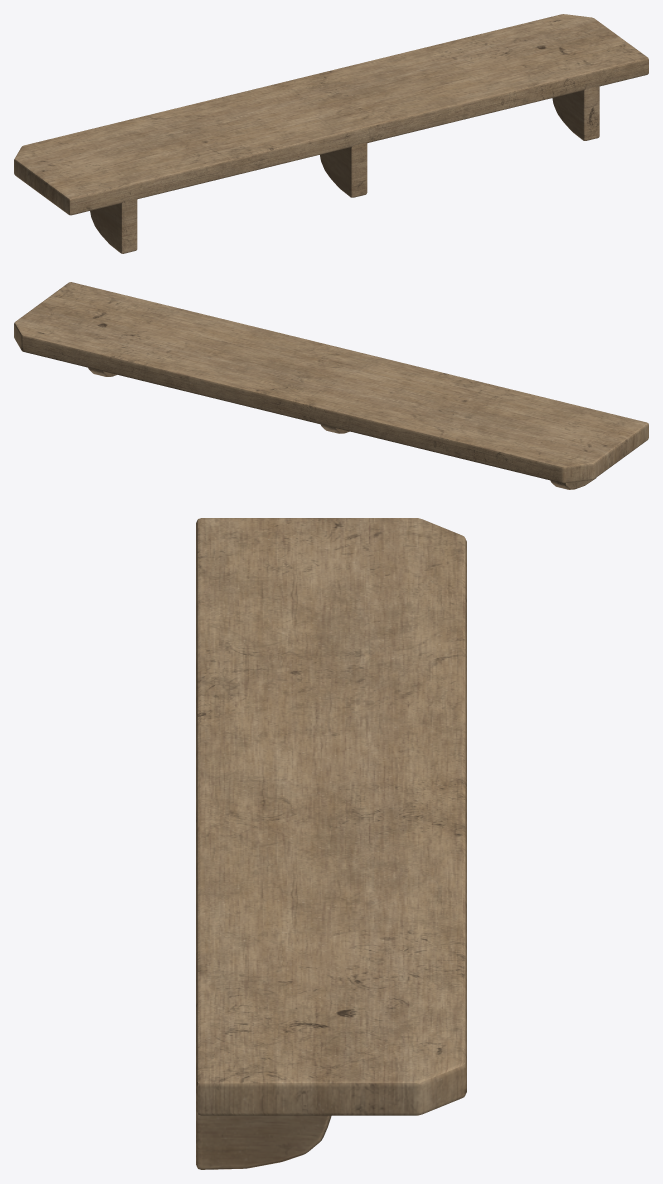
The model's file is wooden_shelf.glb.
3 renders of one model, top to bottom at view 1: azimuth 30°, elevation 25°; view 2: azimuth 150°, elevation 25°; view 3: azimuth 270°, elevation 25°, orthographic. The views are drawn at different scales.
Visible parts, largest first — view 1: pCube5; view 2: pCube5; view 3: pCube5.
Part boxes in pixels (x1,y1,x2,y2): pCube5: [14, 14, 648, 253]; pCube5: [14, 282, 648, 489]; pCube5: [196, 518, 466, 1169].
Bounding box in the file's own units: 1.9 × 0.2151 × 0.3837.
Materials: 1 (1 with a texture image).
